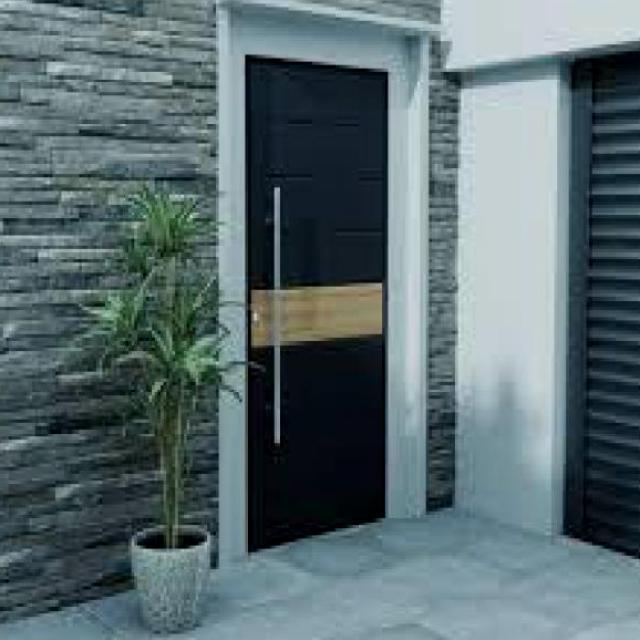door: (245, 55, 387, 551)
